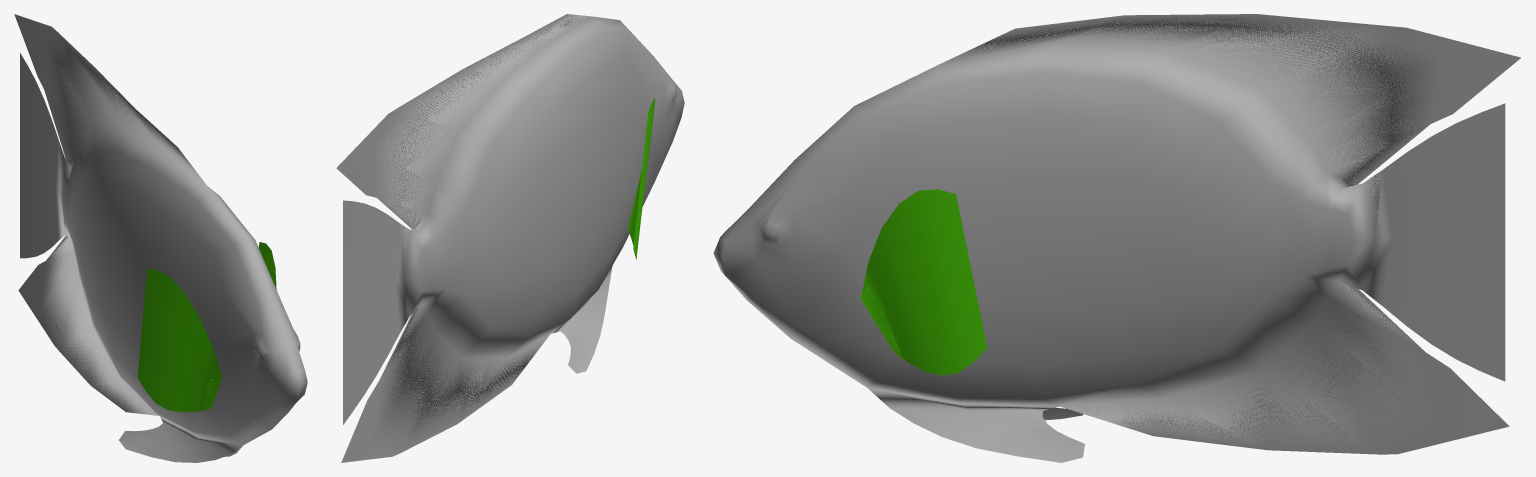
Rendered from Pomacanthidae_E_S.fbx.
The picture shows the model from 3 angles, left to right: view 1: azimuth 30°, elevation 25°; view 2: azimuth 150°, elevation 25°; view 3: azimuth 270°, elevation 25°; orthographic projection. The views are drawn at different scales.
Parts seen in each view (by area): view 1: Pomacanthidae_E_S_Mesh; view 2: Pomacanthidae_E_S_Mesh; view 3: Pomacanthidae_E_S_Mesh.
Part boxes in pixels (<box>): Pomacanthidae_E_S_Mesh: <box>14,14,307,462</box>; Pomacanthidae_E_S_Mesh: <box>336,14,684,462</box>; Pomacanthidae_E_S_Mesh: <box>713,14,1520,462</box>.
Size of the model in its own units: 0.00228 by 0.00624 by 0.0105.
